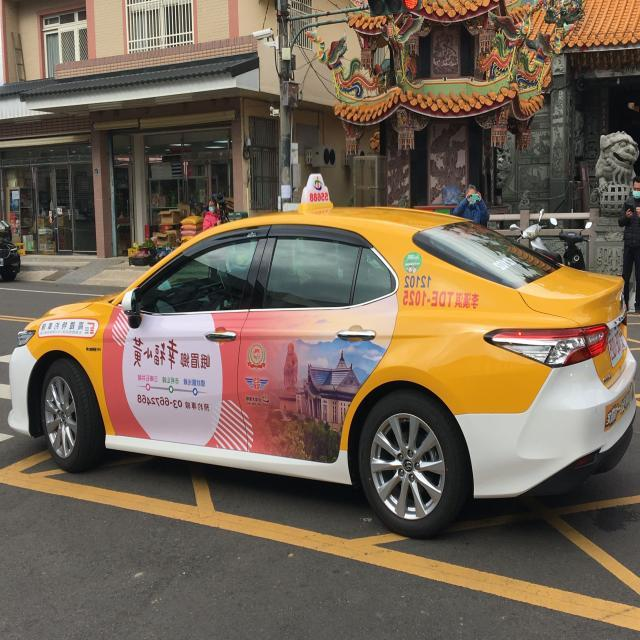taxi: (1, 162, 640, 550)
